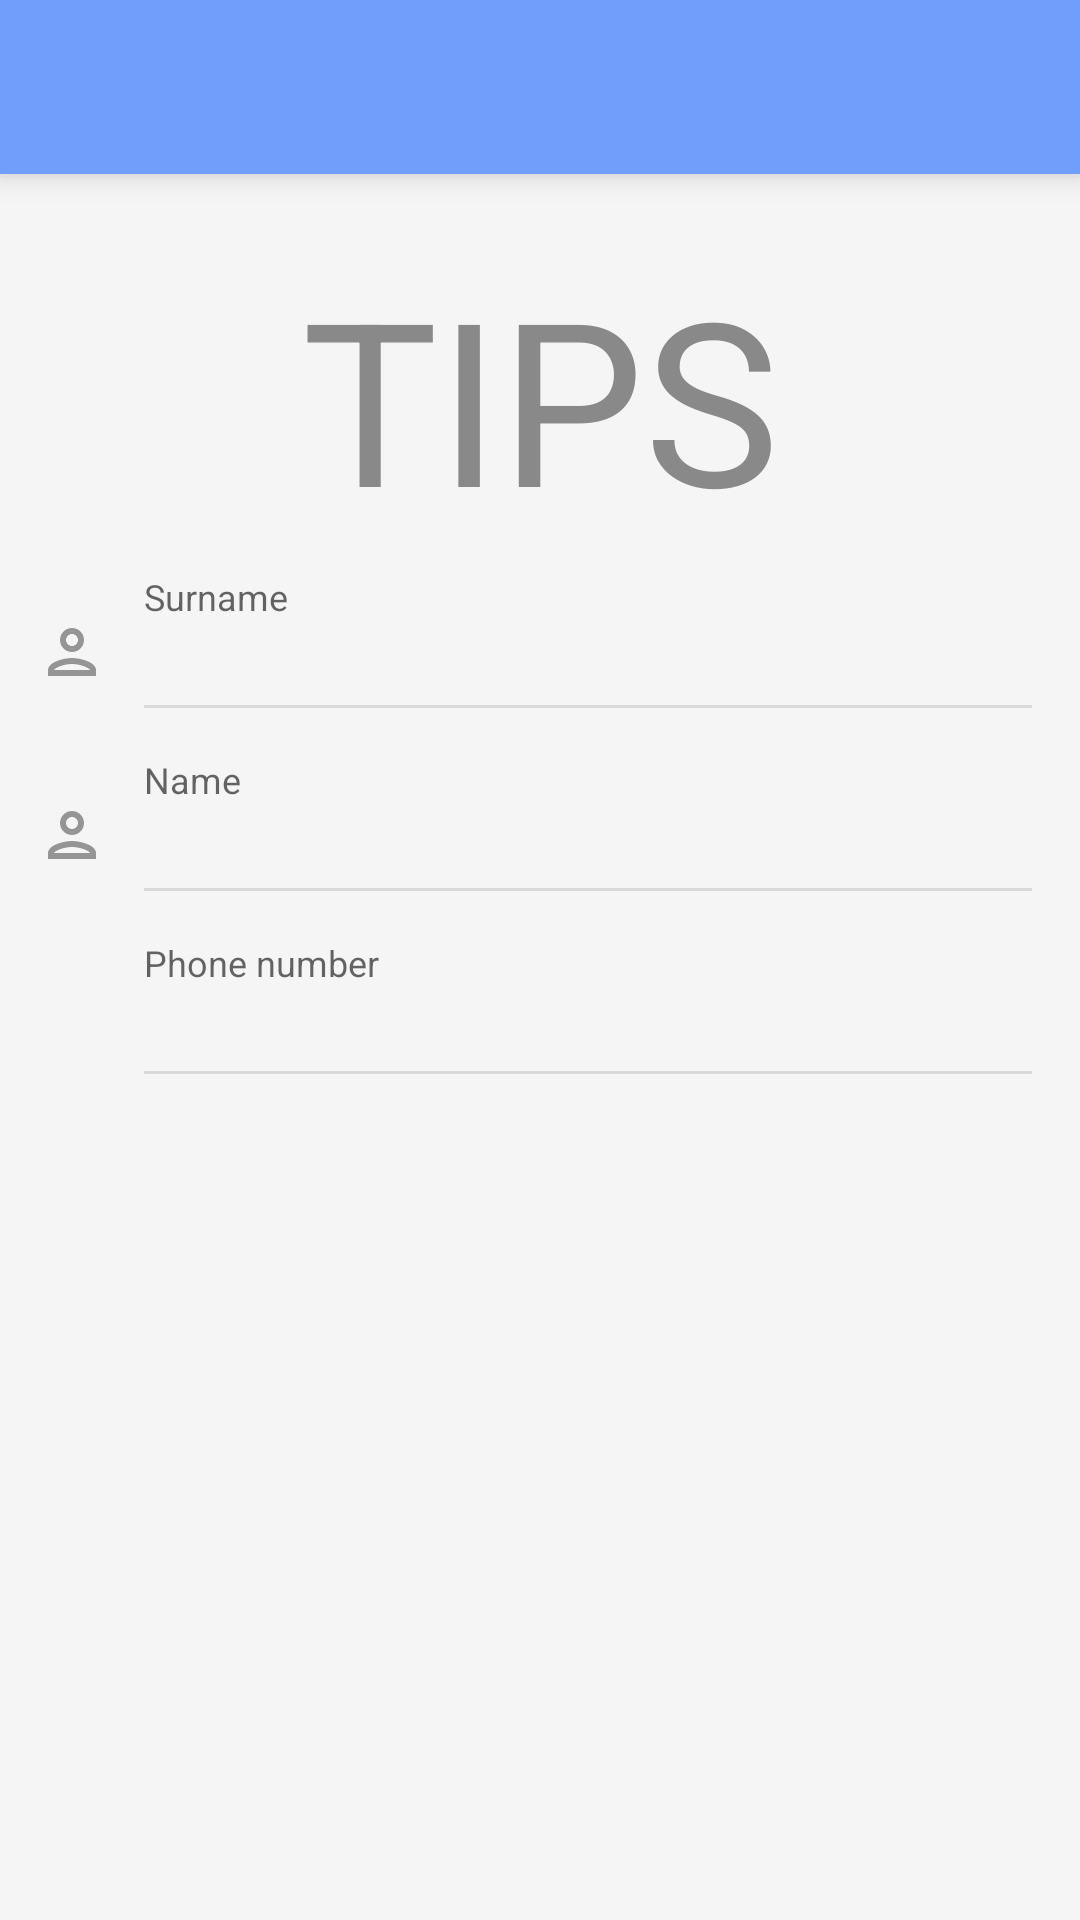

Screen size 1080px x 1920px. Icon name, then its box in pixels as [x1, y1, x2, y2]:
user: [48, 628, 96, 676], [48, 811, 96, 859]
